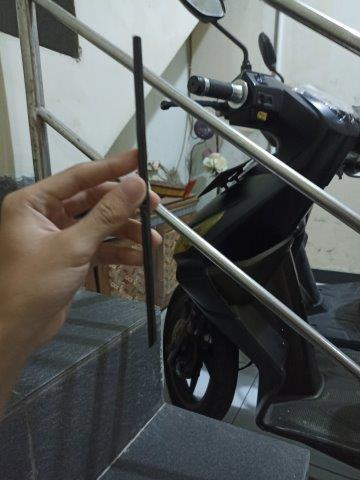sedotan: (133, 37, 157, 345)
